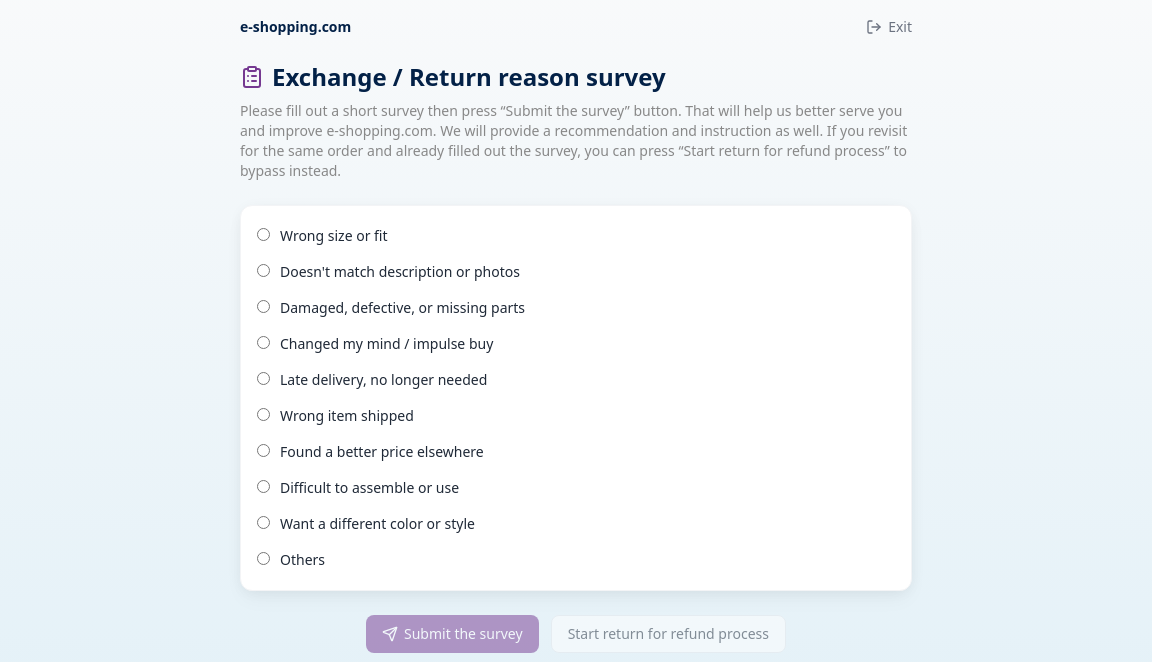
Scenario: ExchangeReturnPage › requires the explanation box when 'Others' is picked
Click the radio button labelled "Others" at coordinates (264, 558), box [257,552,270,565]
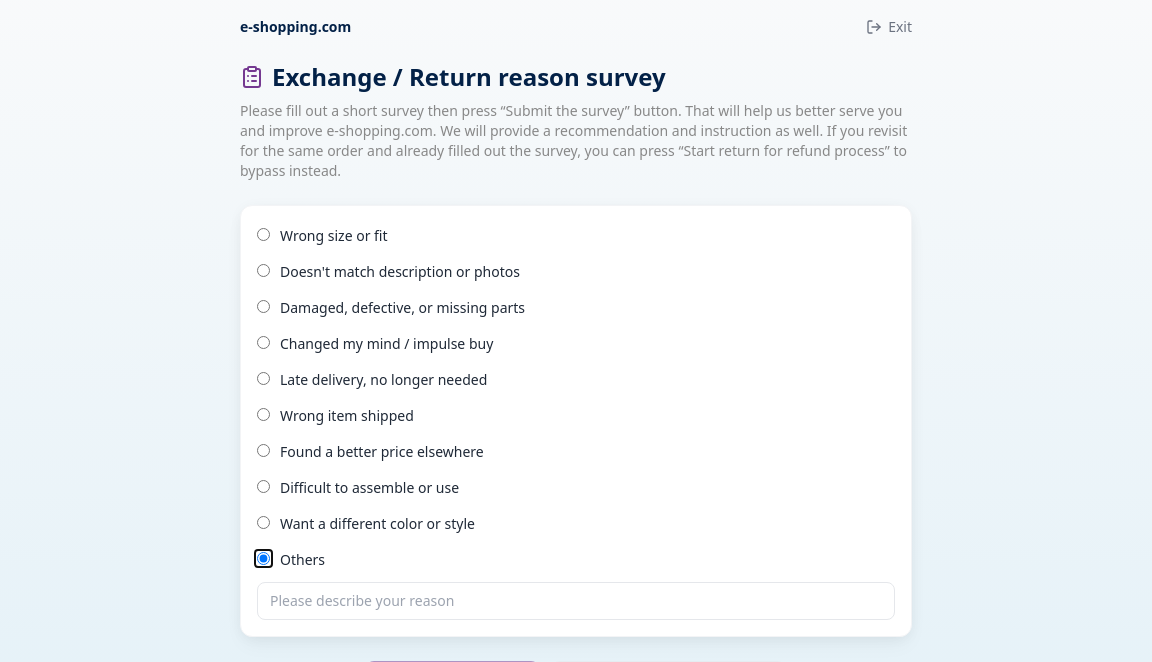
Type "It's a long story" into the field with placeholder "Please describe your reason" at coordinates (576, 601), box [257,582,895,620]
(page scrolled)
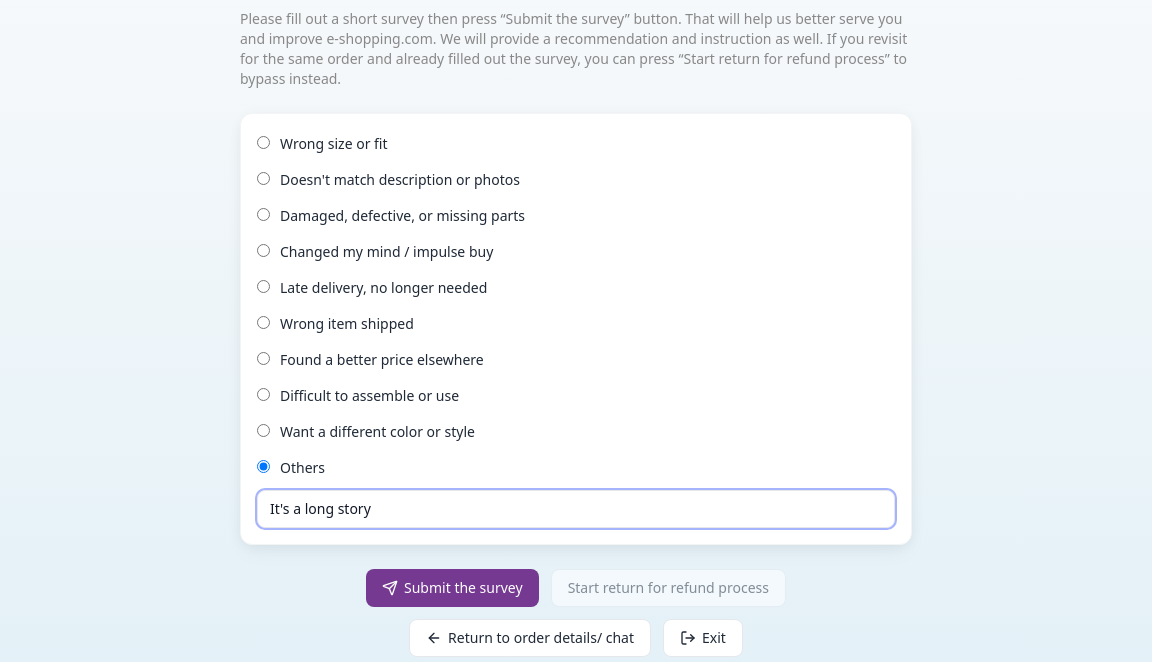
Expected: the button "Submit the survey" is enabled, [366,569,539,607]
